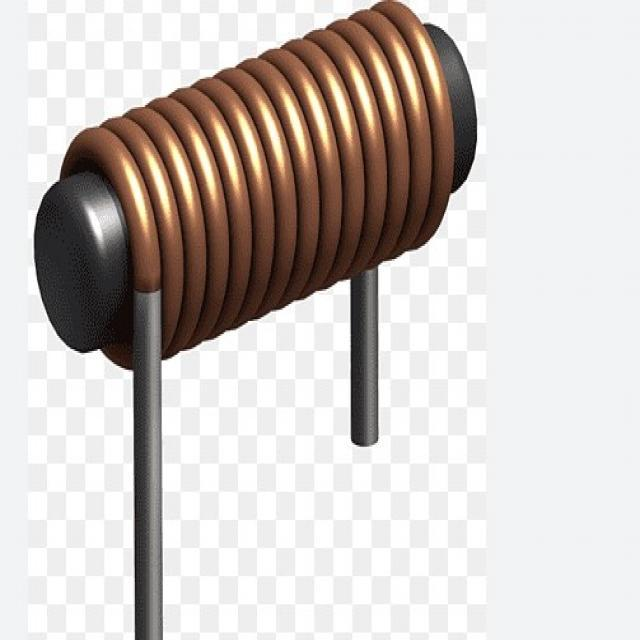Inductor: (35, 2, 476, 640)
